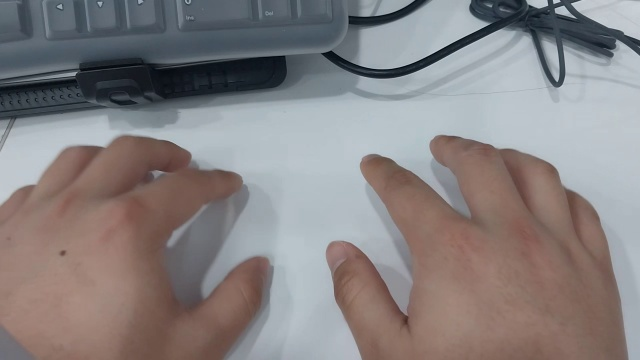fingers: (325, 240, 348, 279), (255, 255, 269, 288), (360, 153, 381, 164)
